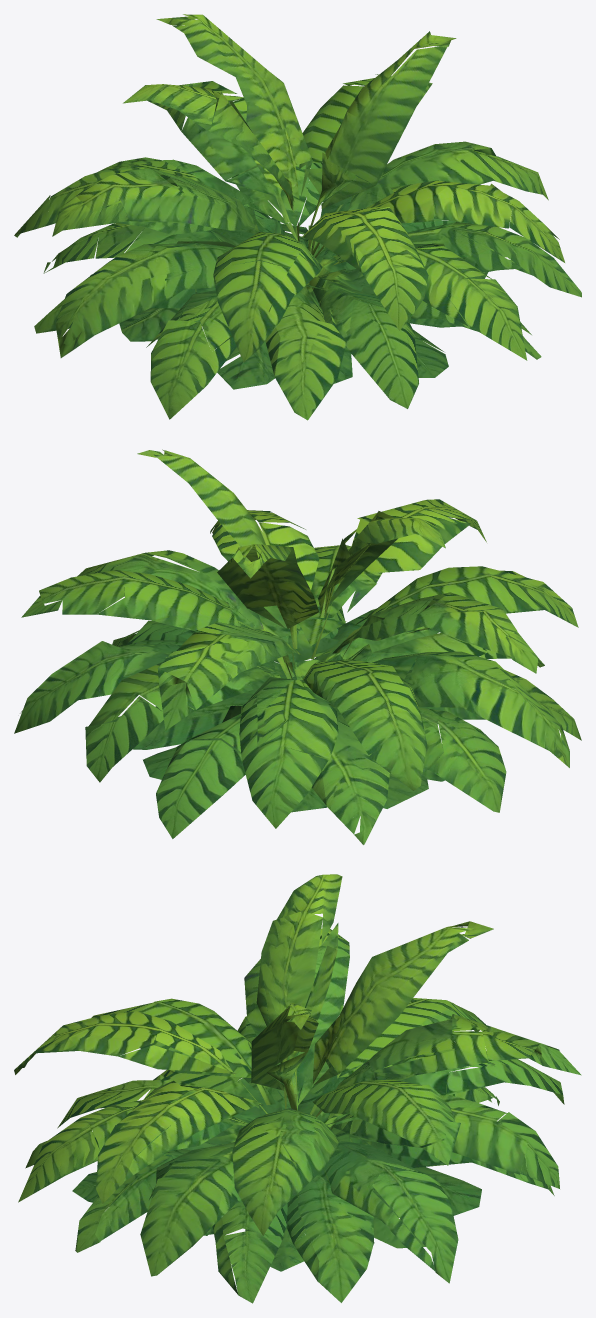
File: Fern.fbx
3 views of the same model, one above another, from view 1: azimuth 30°, elevation 25°; view 2: azimuth 150°, elevation 25°; view 3: azimuth 270°, elevation 25° (orthographic). The views are drawn at different scales.
Visible parts, largest first — view 1: Fern; view 2: Fern; view 3: Fern.
Boxes of the visible parts, x1=… form: Fern: x1=14, y1=14, x2=581, y2=420; Fern: x1=14, y1=449, x2=581, y2=844; Fern: x1=14, y1=874, x2=581, y2=1303.
Size of the model in its own units: 1.59 by 0.811 by 1.6.
1 material, 1 textured.
